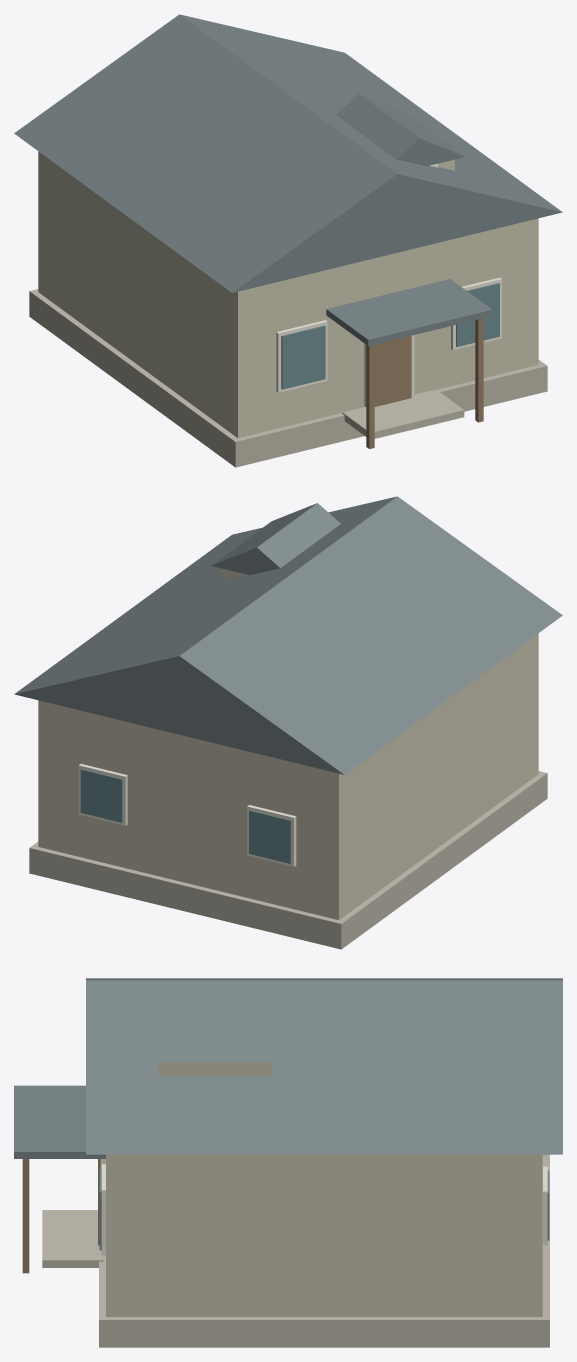
3 renders of one model, top to bottom at view 1: azimuth 30°, elevation 25°; view 2: azimuth 150°, elevation 25°; view 3: azimuth 270°, elevation 25°, orthographic. The views are drawn at different scales.
Bounding box in the file's own units: 8.8 × 6.66 × 11.57.
